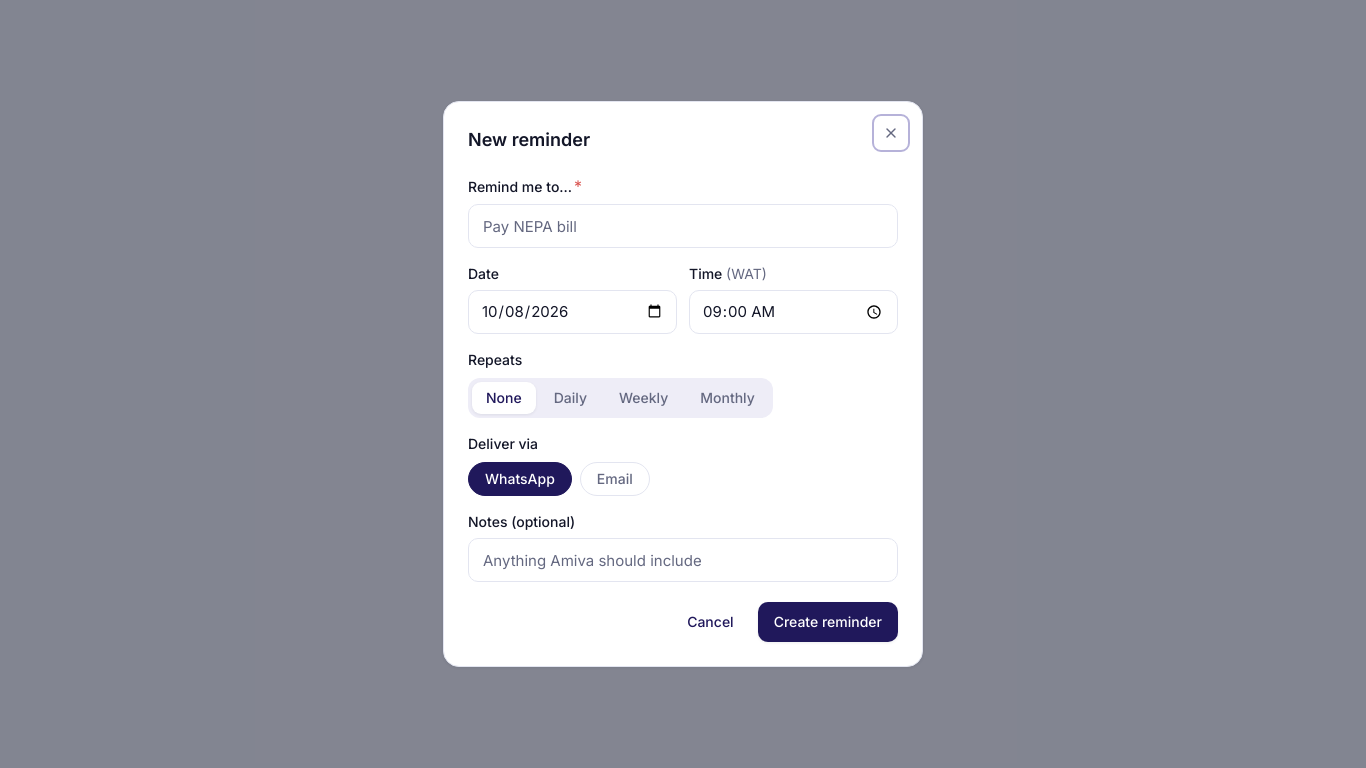
Test: ReminderModal — create › weekly recurrence requires at least one weekday
Type "Gym" into the field labelled "Remind me to…" at (683, 226), box [468,204,898,248]
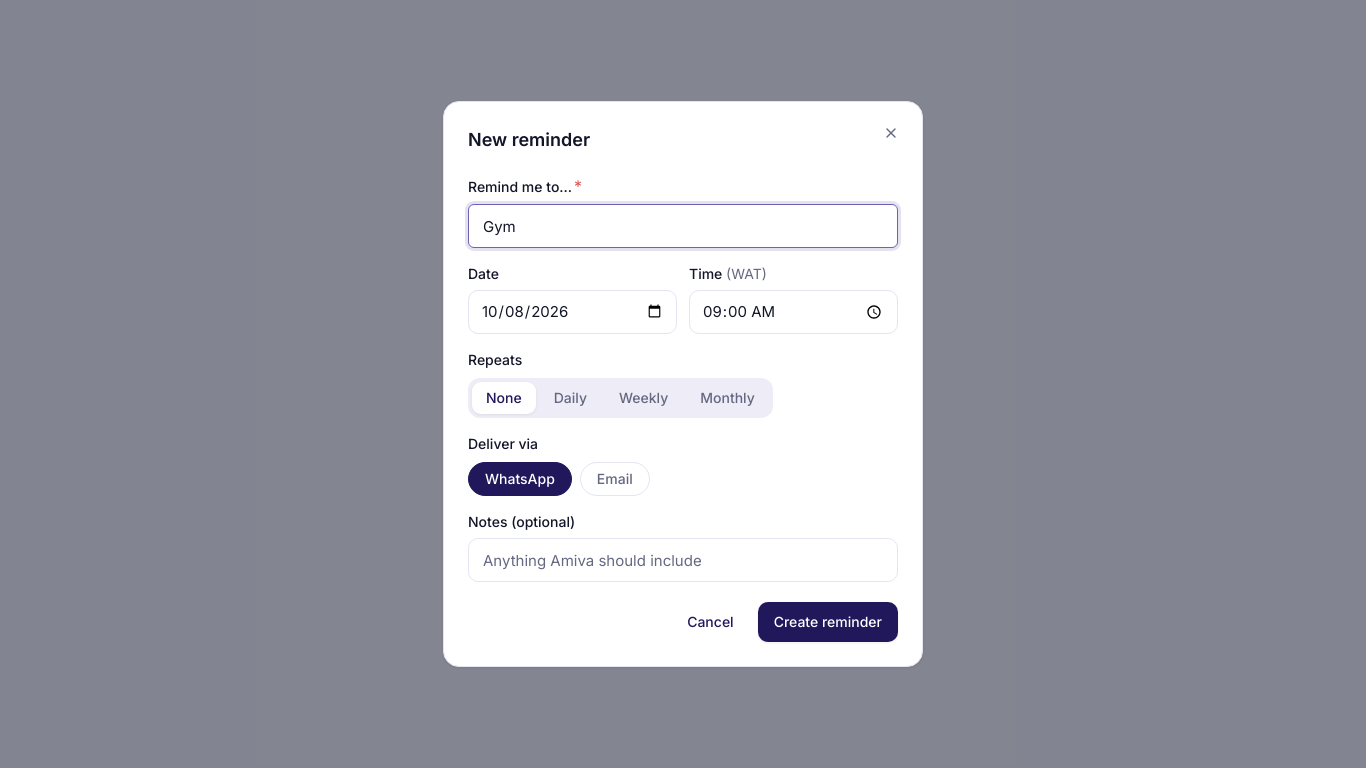
Click the button "Weekly" at (644, 398), box [605,382,682,414]
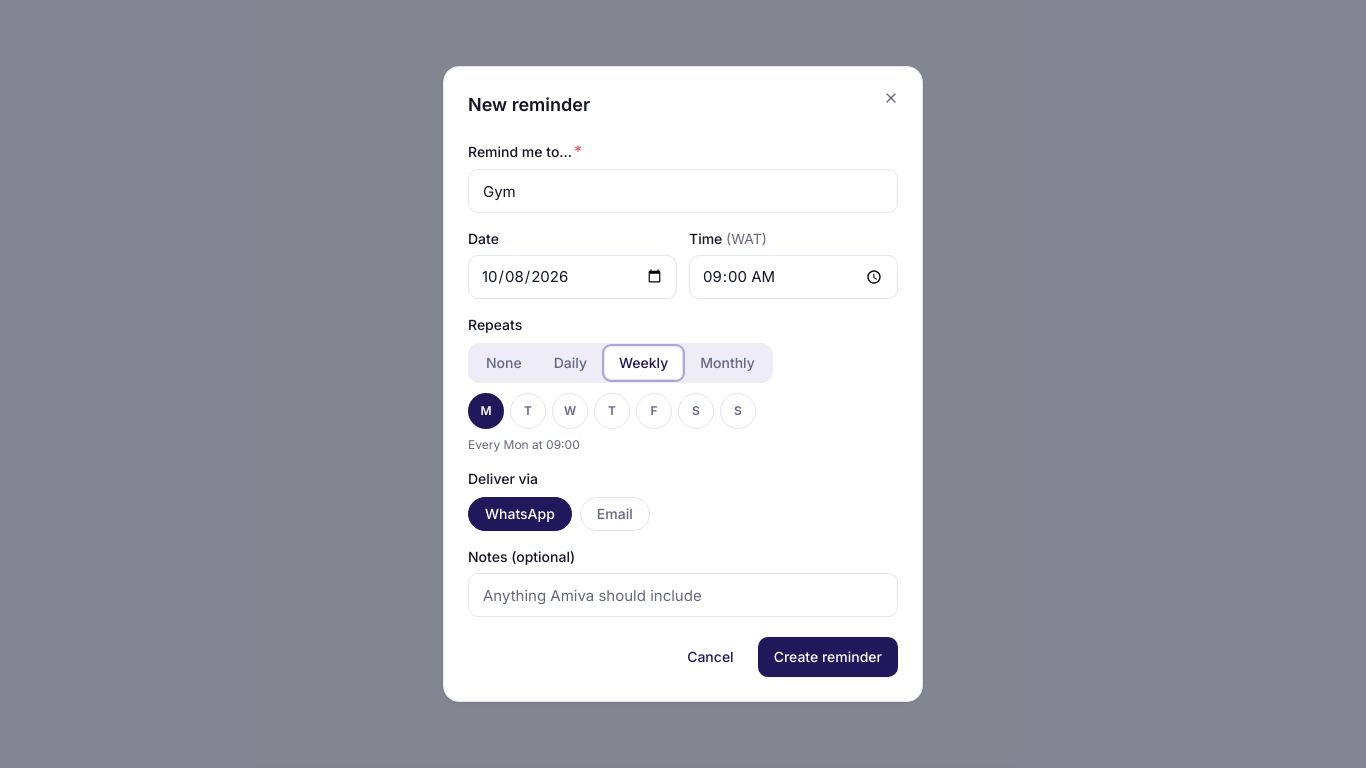
Click the button "M" at (486, 411), box [468,393,504,429]
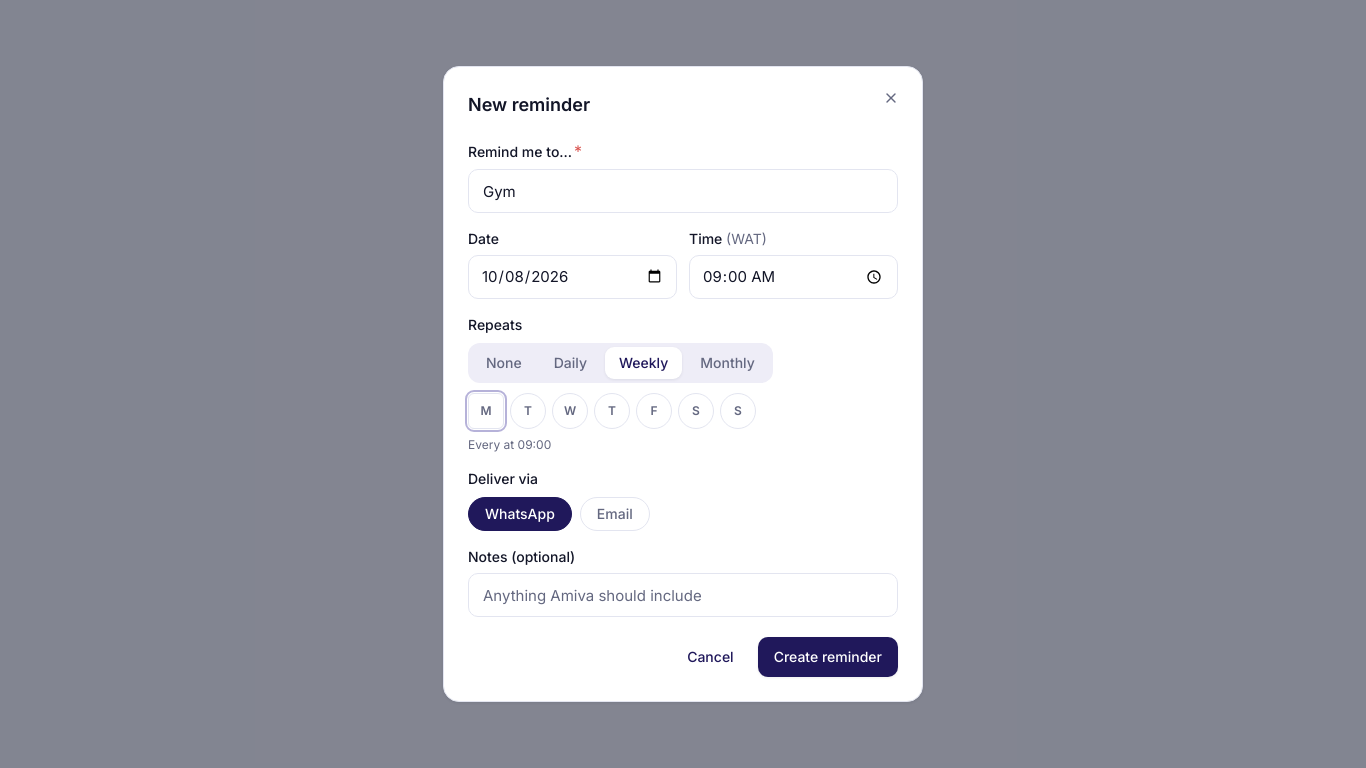
Click the button "Create reminder" at (828, 657), box [758,637,898,677]
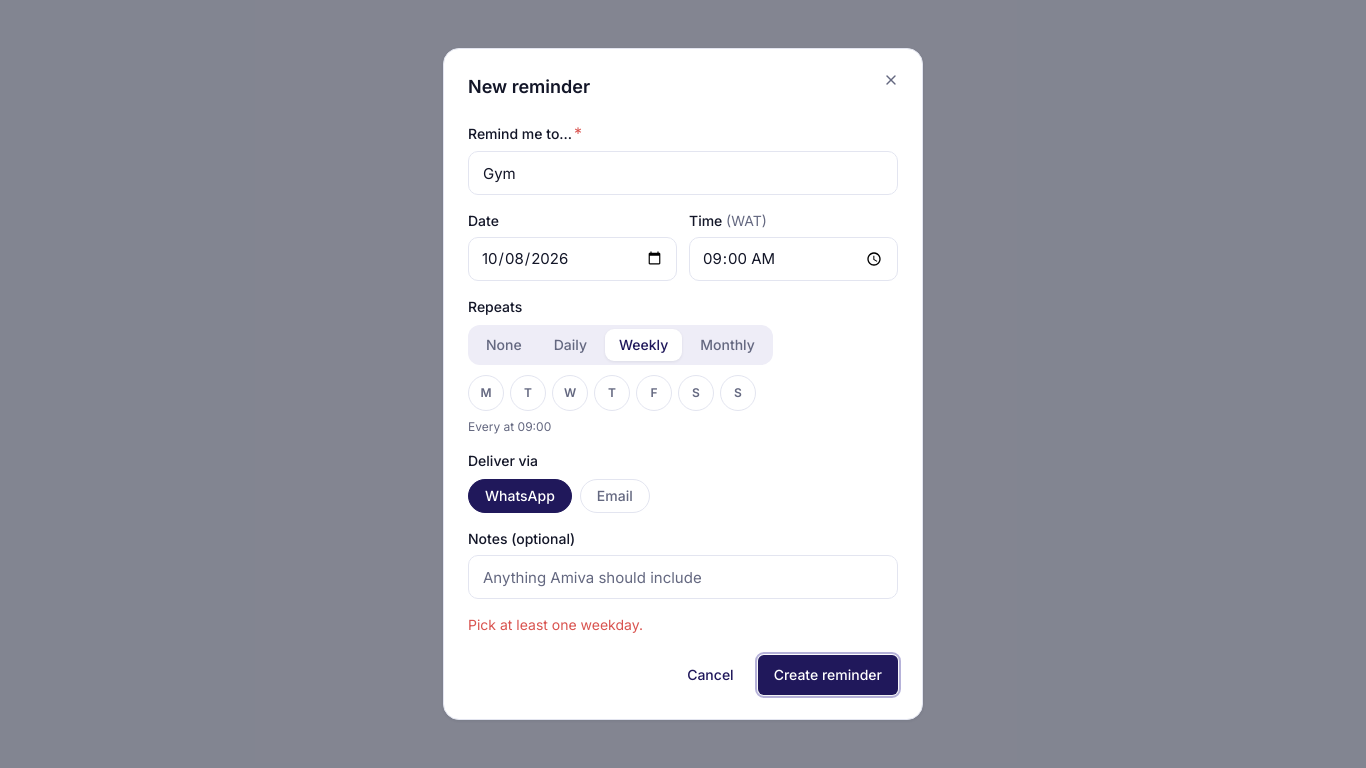
Expected: the message shows "at least one weekday", [468,616,643,633]
